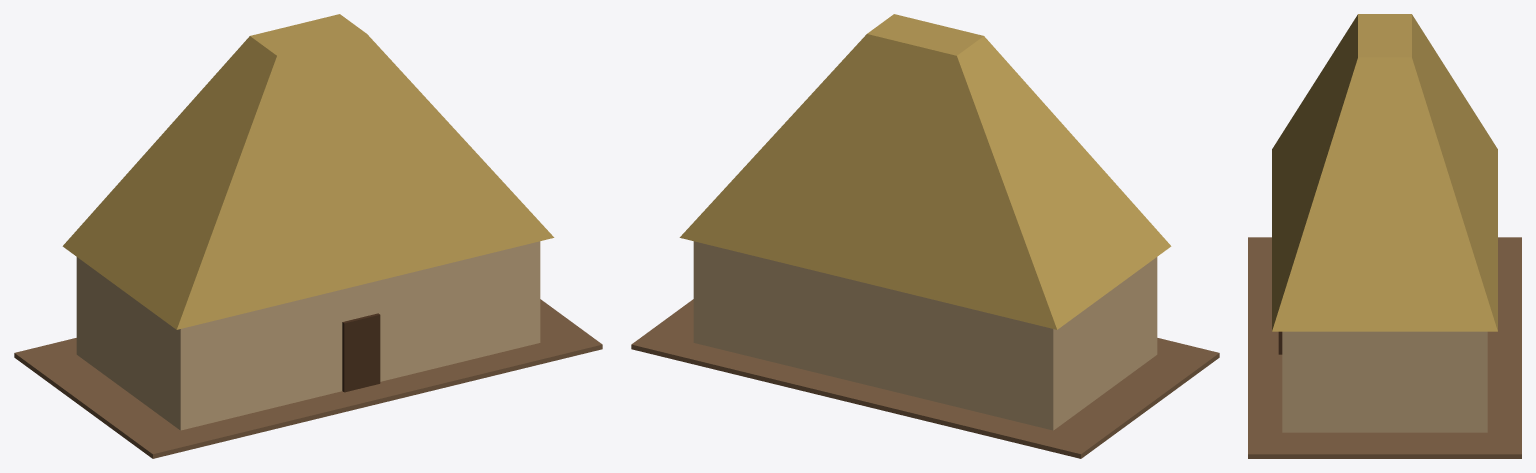
The model's file is bld_special_warehouse_a01_lod2.glb.
The picture shows the model from 3 angles, left to right: view 1: azimuth 30°, elevation 25°; view 2: azimuth 150°, elevation 25°; view 3: azimuth 270°, elevation 25°; orthographic projection.
Parts seen in each view (by area): view 1: body; view 2: body; view 3: body.
Boxes of the visible parts, bbox=[...] form: body: bbox=[14, 14, 602, 458]; body: bbox=[631, 14, 1219, 458]; body: bbox=[1248, 14, 1521, 458].
Bounding box in the file's own units: 15 × 10.15 × 8.
